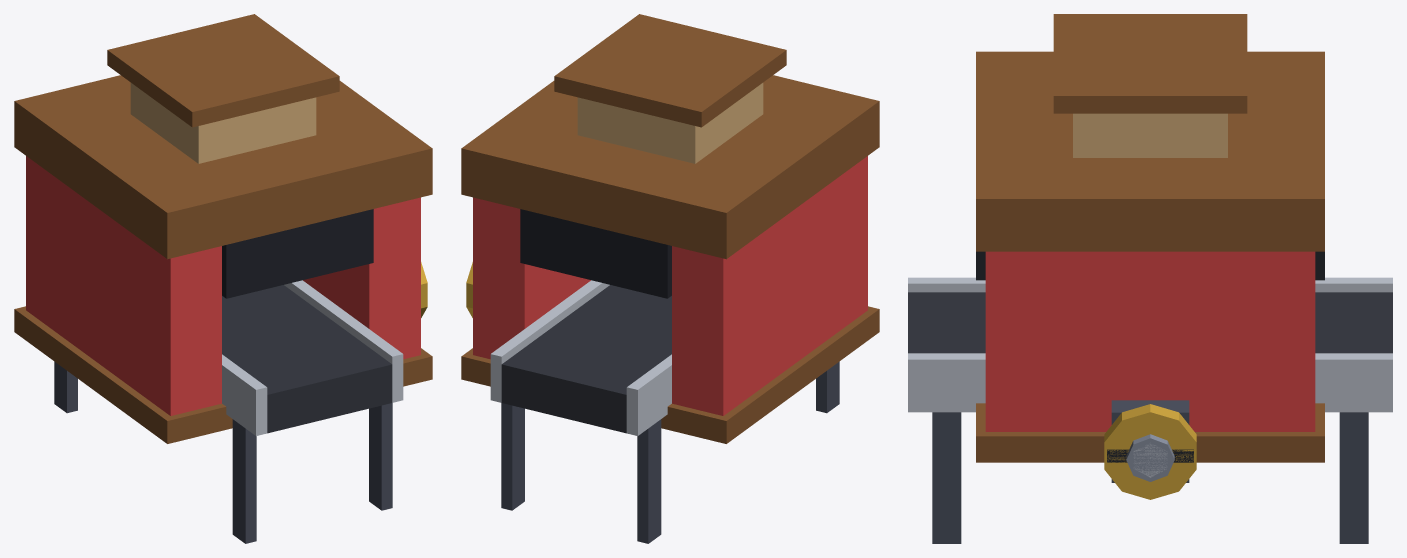
Rendered from thresher.glb.
3 renders of one model, left to right at view 1: azimuth 30°, elevation 25°; view 2: azimuth 150°, elevation 25°; view 3: azimuth 270°, elevation 25°, orthographic. The views are drawn at different scales.
Parts seen in each view (by area): view 1: thresher; view 2: thresher; view 3: thresher, spin-x.
Part boxes in pixels (bbox=[...]): thresher: bbox=[14, 14, 432, 543]; thresher: bbox=[461, 14, 879, 543]; thresher: bbox=[908, 14, 1392, 543]; spin-x: bbox=[1104, 404, 1196, 499].
Size of the model in its own units: 0.88 by 1.02 by 1.
Materials: 3 (3 with a texture image).
